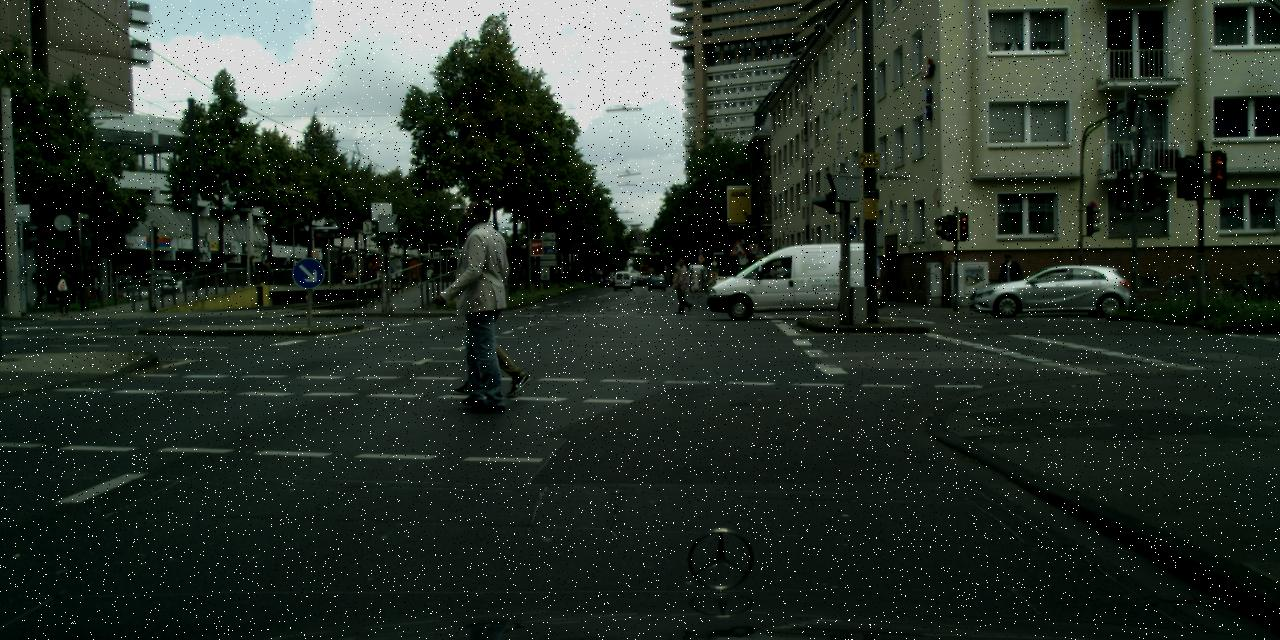ped: (431, 195, 537, 418), (999, 254, 1020, 306), (673, 259, 693, 312), (53, 265, 73, 314), (331, 259, 341, 284)
